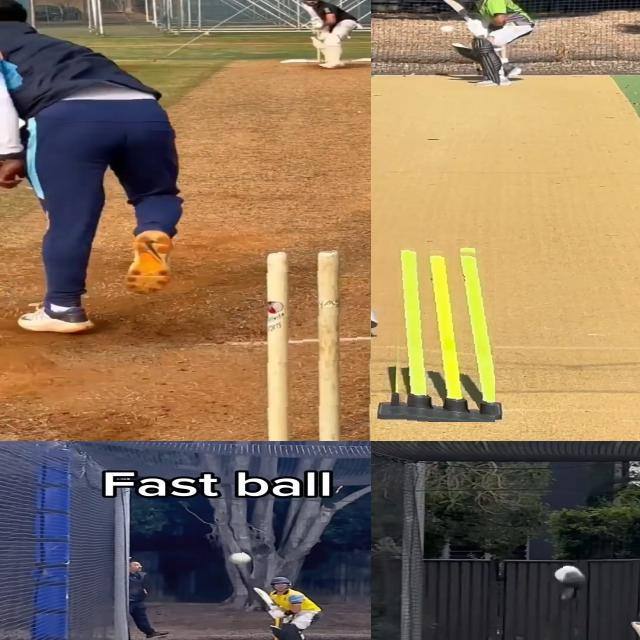Cricket ball: (549, 564, 588, 586), (228, 552, 253, 566), (439, 25, 455, 34)
Stumps: (263, 249, 371, 441), (383, 245, 495, 422)
